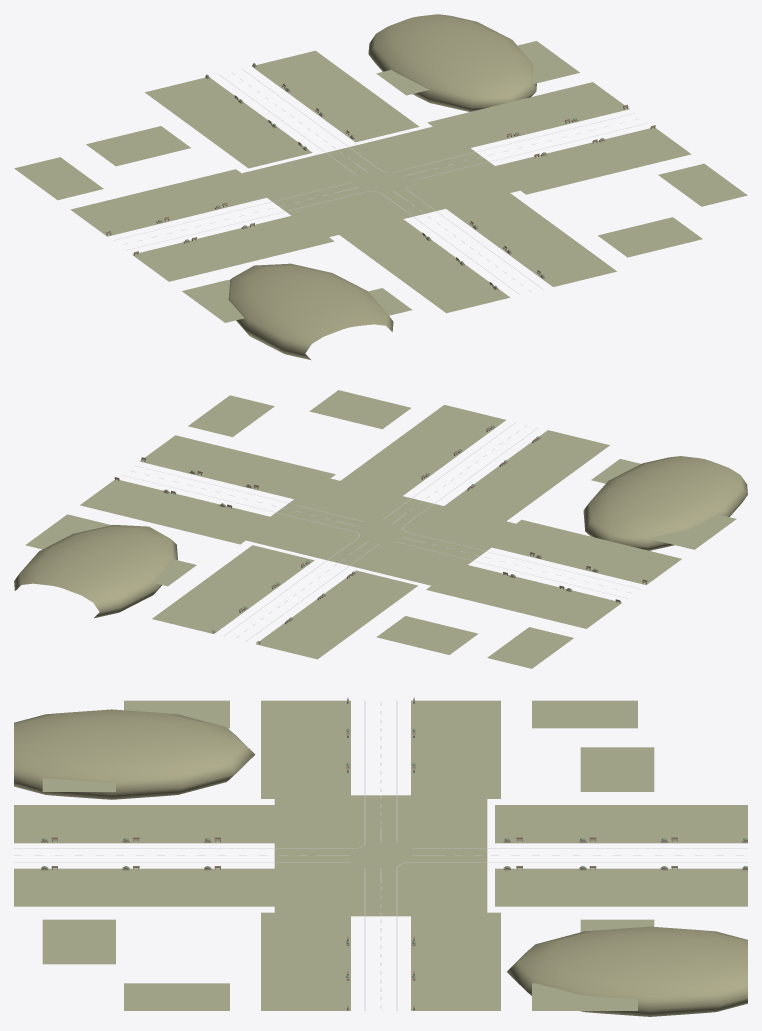
3 renders of one model, top to bottom at view 1: azimuth 30°, elevation 25°; view 2: azimuth 150°, elevation 25°; view 3: azimuth 270°, elevation 25°, orthographic. The views are drawn at different scales.
Visible parts, largest first — view 1: static; view 2: static; view 3: static.
Part boxes in pixels (x1,y1,x2,y2): static: (14, 14, 747, 360); static: (14, 390, 747, 668); static: (14, 697, 747, 1016).
Size of what is drawn, in the model's own units: 180 by 14.08 by 180.
